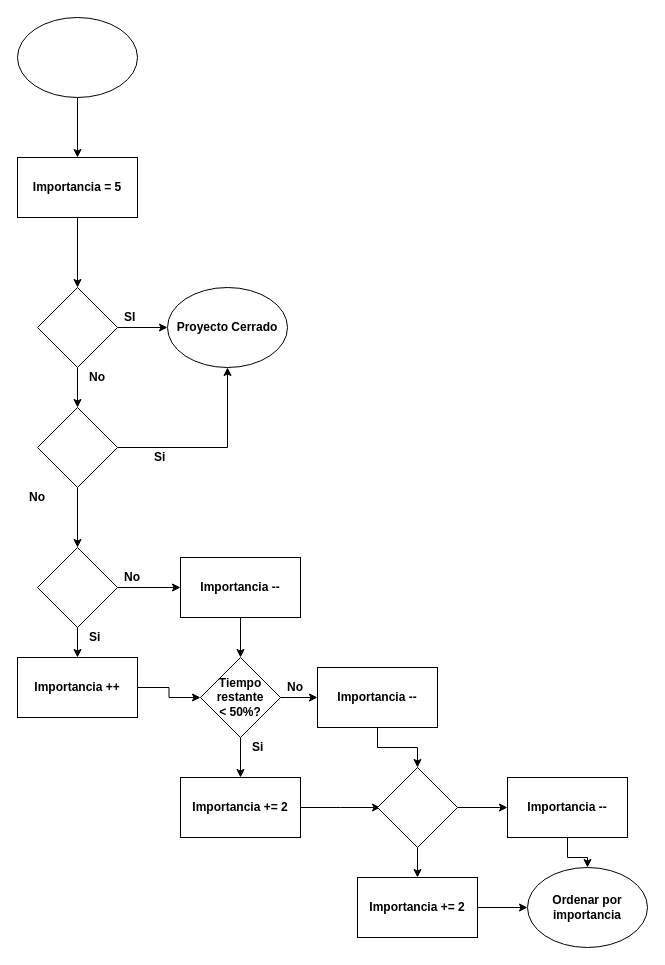
The diagram is 665 pixels wide and 965 high, and some of its shapes have lost their labels. Each missing label, with the centre of its shape:
Hueco en tus roles??: pixel 77 587
Num particip > 75% ?: pixel 417 807
Numro de participantes completo??: pixel 77 327
Proyecto Subido: pixel 77 57
Tiempo completo??: pixel 77 447
